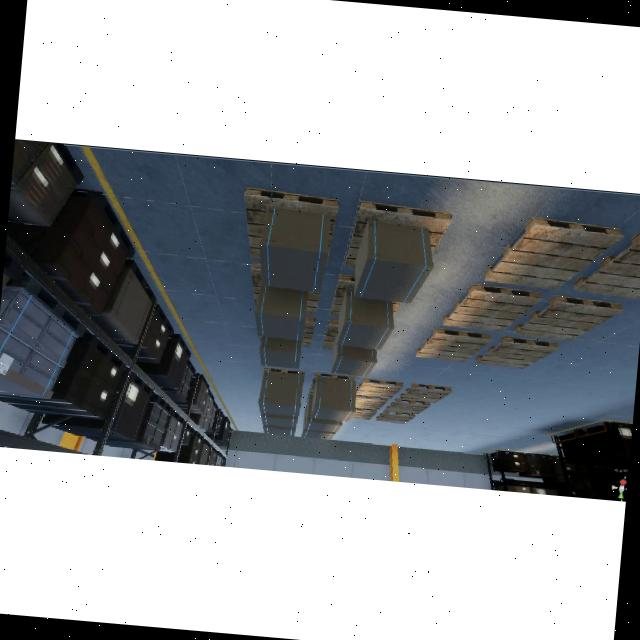wooden_pallet: (486, 217, 625, 287), (242, 187, 340, 266), (344, 198, 454, 266), (514, 296, 622, 342), (441, 285, 542, 333), (572, 231, 640, 302), (414, 328, 491, 364), (473, 336, 556, 368), (399, 383, 451, 403), (355, 378, 403, 398), (386, 399, 430, 415), (354, 395, 388, 410), (376, 411, 415, 424), (264, 367, 307, 375), (315, 372, 356, 380), (349, 408, 376, 420)
